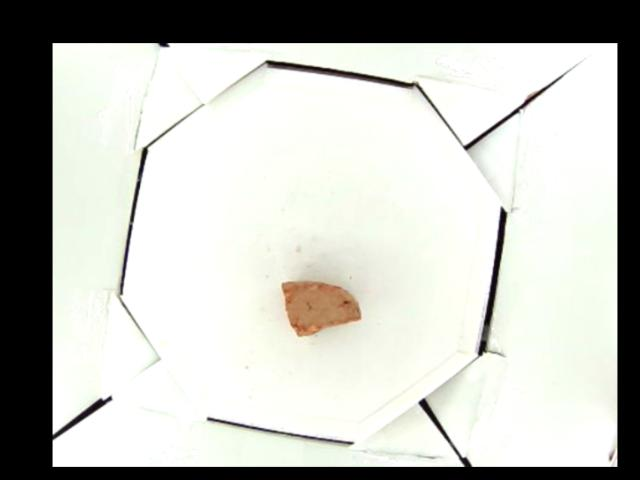Brisk: (282, 280, 362, 337)
